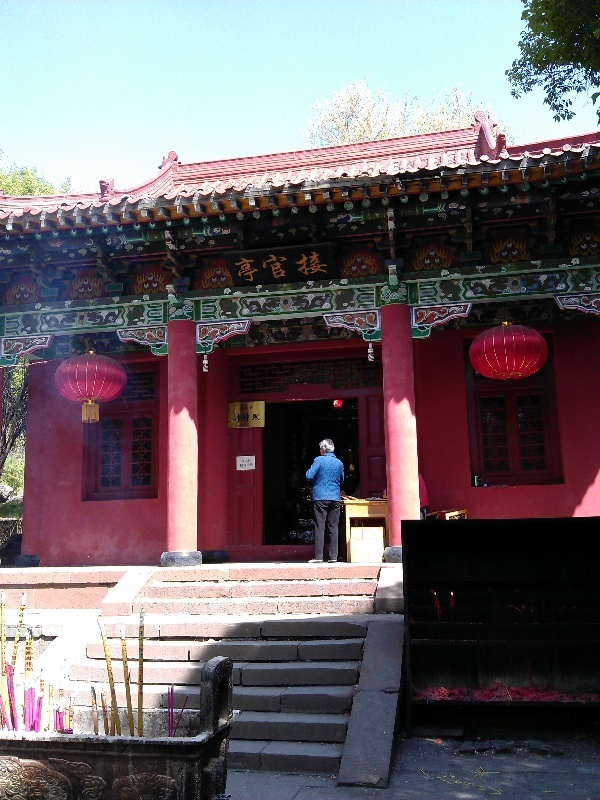text: (2, 605, 16, 675), (17, 607, 26, 666), (241, 250, 256, 285), (257, 250, 272, 285), (273, 250, 288, 285), (289, 250, 304, 285), (305, 250, 320, 285), (122, 639, 128, 693), (11, 607, 16, 666), (321, 250, 329, 285), (140, 631, 144, 691), (108, 639, 112, 695), (234, 250, 240, 285), (113, 639, 116, 695), (241, 413, 256, 424), (27, 642, 32, 673), (9, 697, 16, 715), (241, 406, 256, 412), (29, 642, 32, 672), (233, 413, 240, 424), (241, 463, 253, 468), (12, 700, 16, 715), (242, 459, 256, 463), (257, 413, 262, 424), (129, 639, 130, 693)
